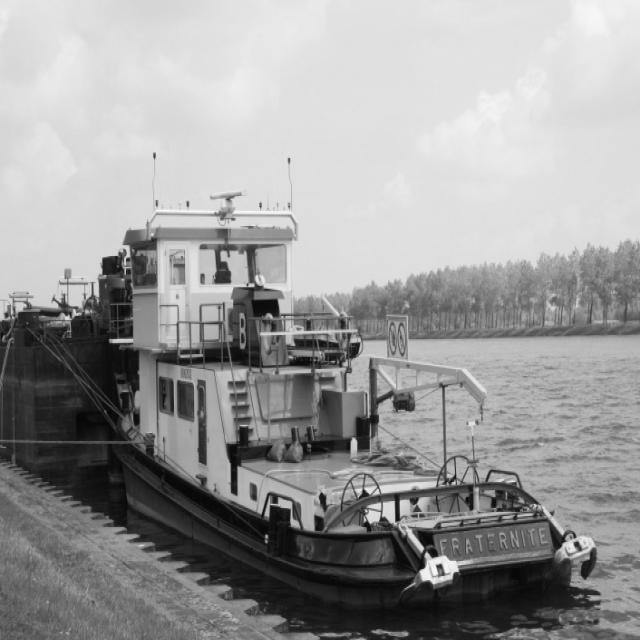tugboat: (103, 149, 602, 640)
